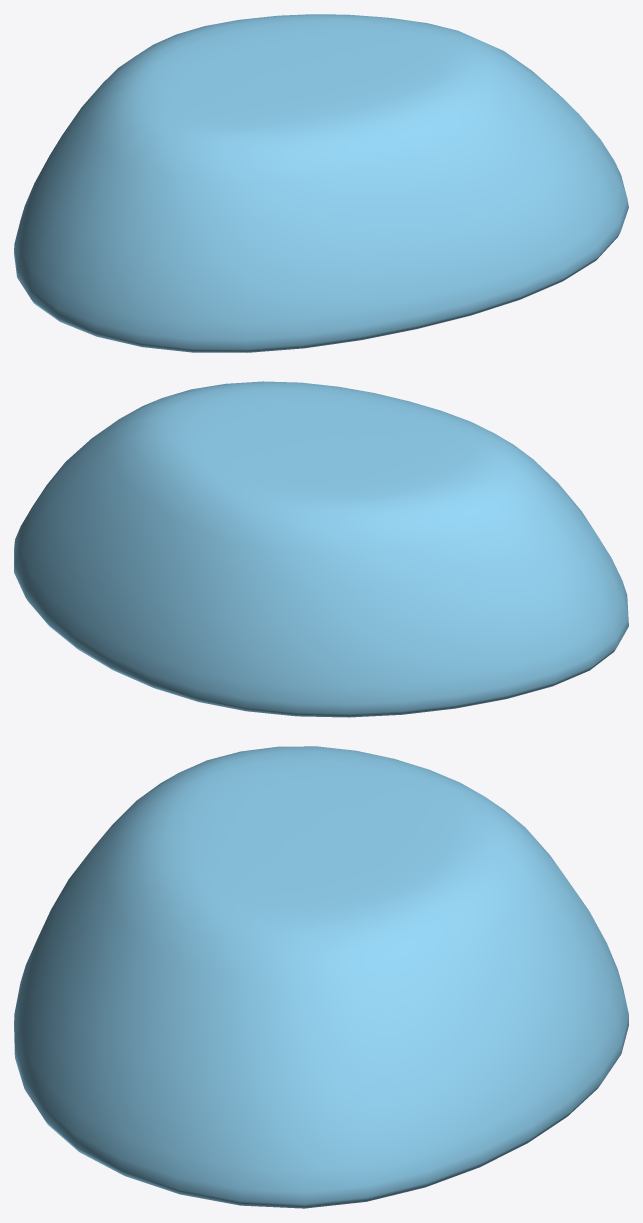
The model's file is SM_20016PedraM.fbx.
The picture shows the model from 3 angles, top to bottom: view 1: azimuth 30°, elevation 25°; view 2: azimuth 150°, elevation 25°; view 3: azimuth 270°, elevation 25°; orthographic projection. The views are drawn at different scales.
Parts seen in each view (by area): view 1: SM_20016PedraM_geo_1; view 2: SM_20016PedraM_geo_1; view 3: SM_20016PedraM_geo_1.
Boxes of the visible parts, x1,y1,x2,y2 form: SM_20016PedraM_geo_1: [14, 14, 628, 352]; SM_20016PedraM_geo_1: [14, 381, 628, 717]; SM_20016PedraM_geo_1: [14, 746, 628, 1208].
Size of the model in its own units: 17.55 by 5.08 by 13.68.
